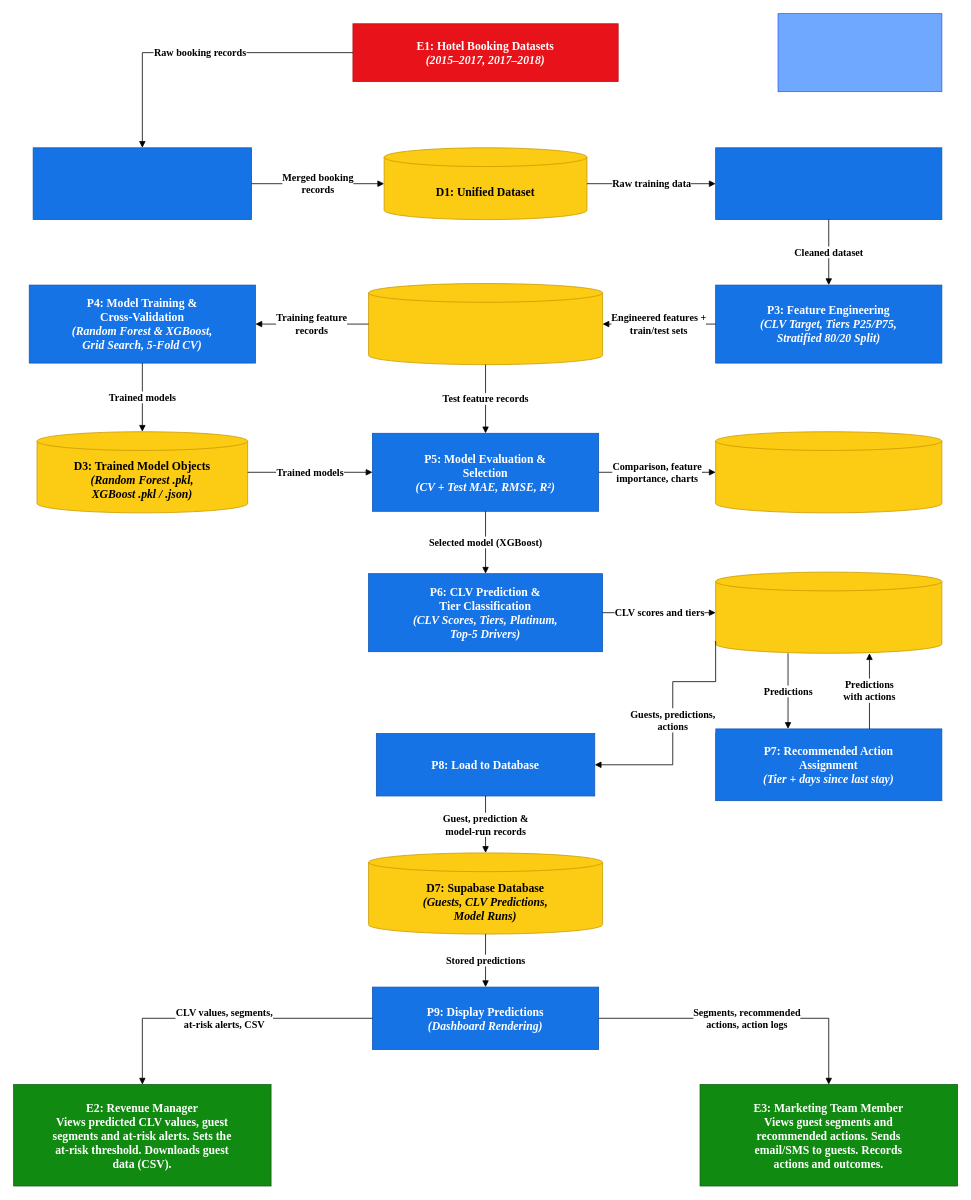
The diagram is 971 pixels wide and 1200 high, and some of its shapes have lost their labels. Here are the shapes that lost their labels. From the top down, the box of each, then its label:
(777, 13, 942, 92): KEY E = External Entities P = Processes D = Data Stores
(32, 147, 252, 220): P1: Harmonise & Merge (Translate categories, align columns, add guest IDs)
(715, 147, 942, 220): P2: Data Preprocessing (Clean, Cap Outliers, Convert to KSh, Encode)
(368, 283, 603, 365): D2: Processed Feature DataFrame (Train and test sets)
(715, 431, 942, 513): D5: Evaluation Results (Comparison, feature importance, charts)
(715, 571, 942, 653): D4: Prediction Output DataFrame (CLV Scores, Tiers, Actions)
